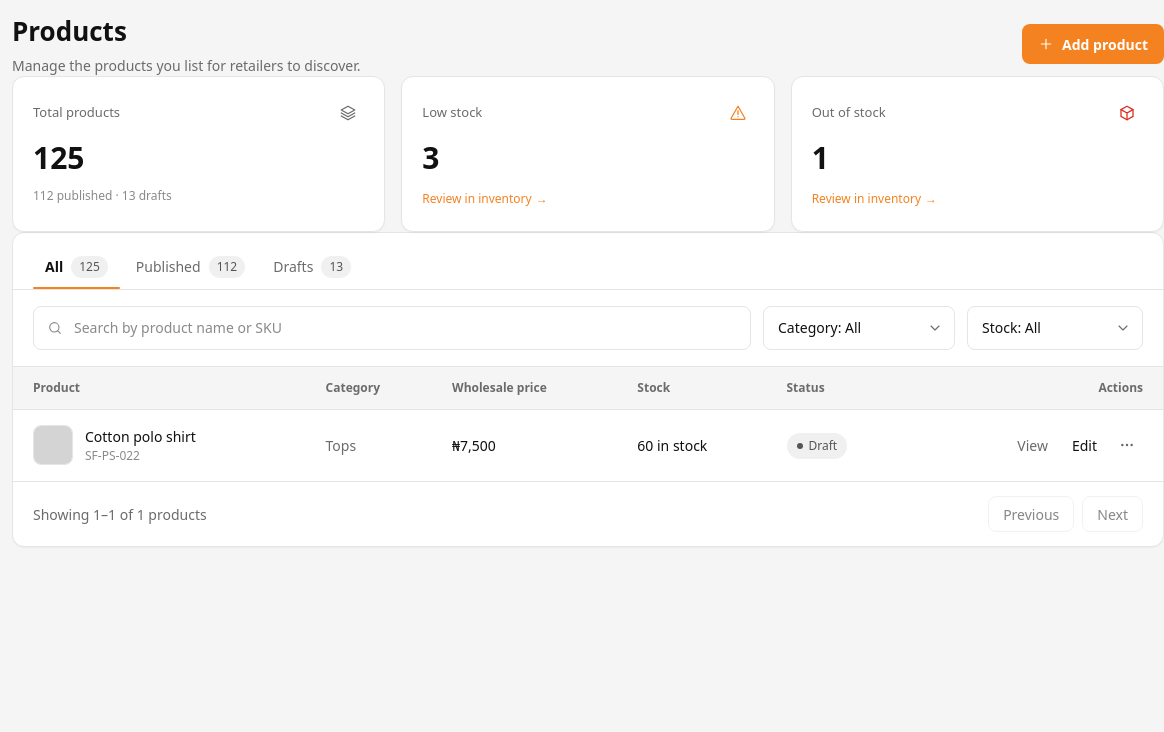
Test: products list › publishes/unpublishes from the row menu via the API and shows the rich toast
The image size is (1164, 732).
Step 1. Click the button named "More actions for Cotton polo shirt" → (1127, 445), box [1111,429,1143,461]
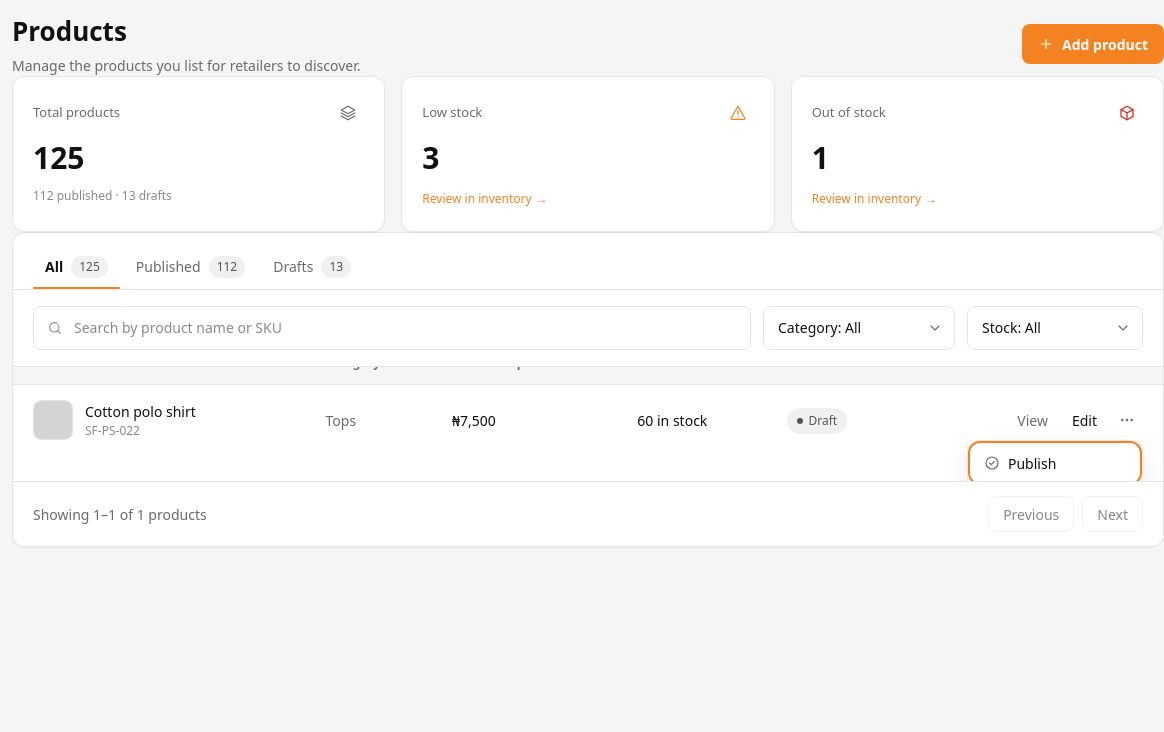
Step 2. Click the menu item "Publish" → (1055, 463), box [972,445,1138,481]
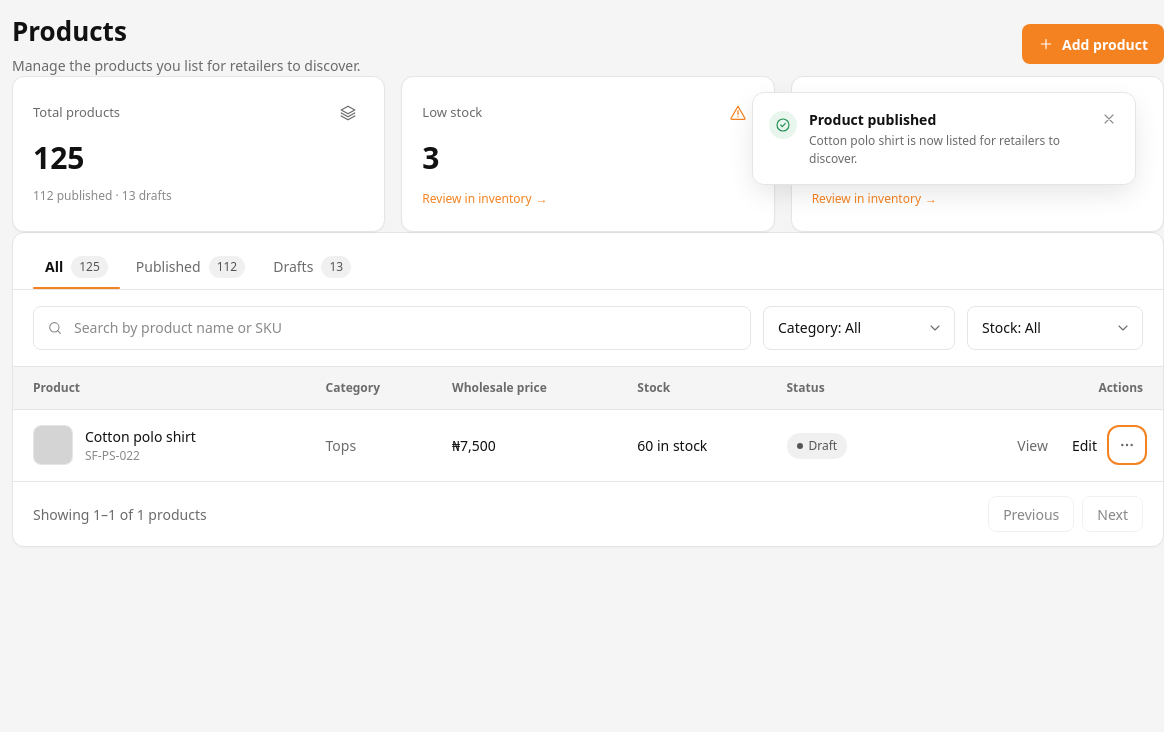
Expected: the text "Product published" is shown, [809,110,936,129]
